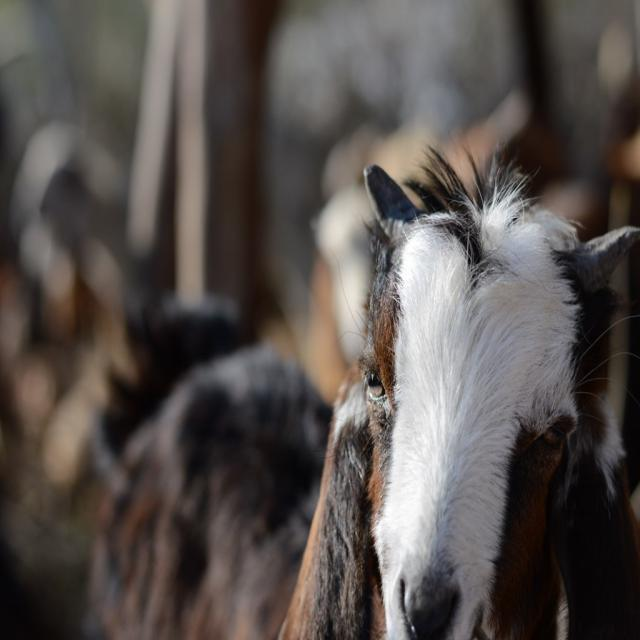Goat: (282, 156, 640, 640)
